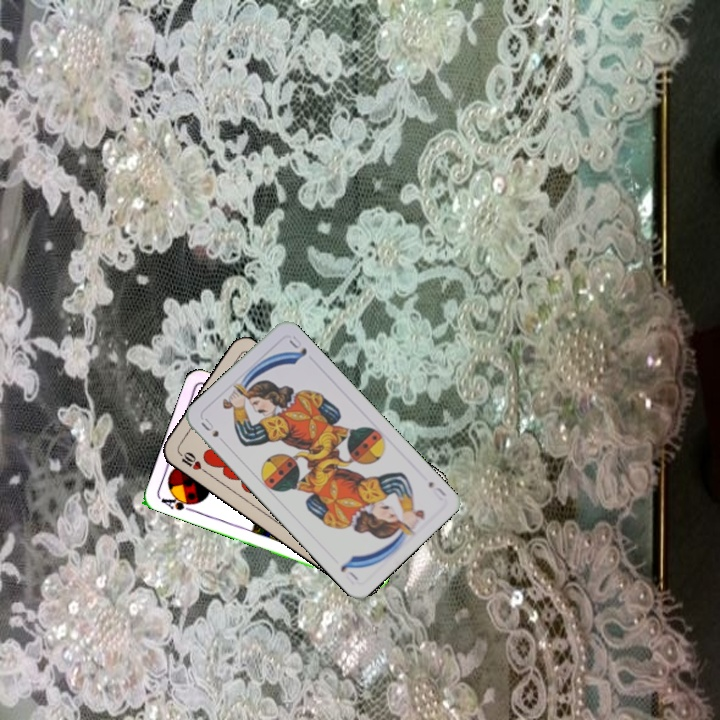H10: (174, 447, 210, 476)
SA: (157, 491, 198, 514)
SU: (424, 477, 449, 503), (197, 414, 221, 440)
